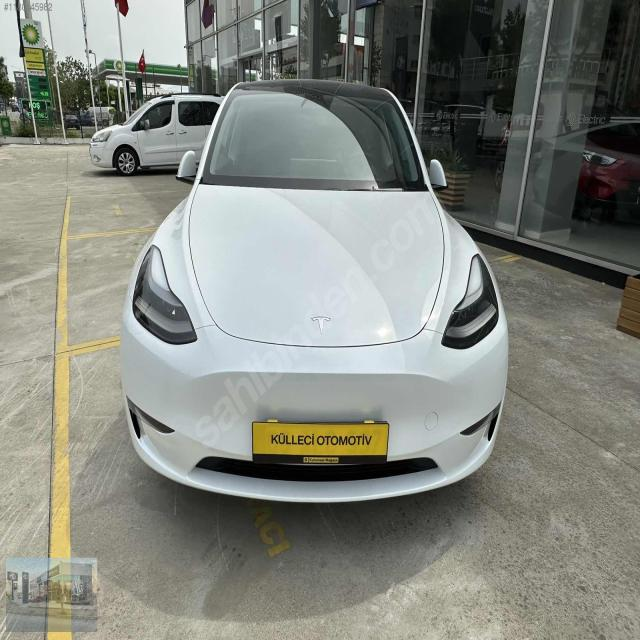tesla: (311, 313, 329, 338)
